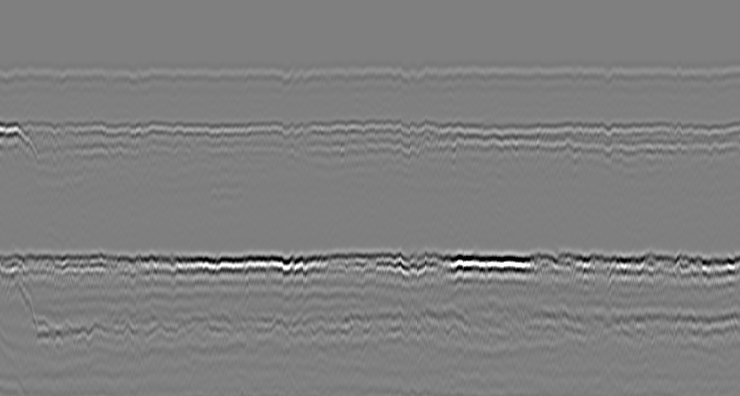fault: (595, 115, 619, 165), (594, 59, 618, 95)
